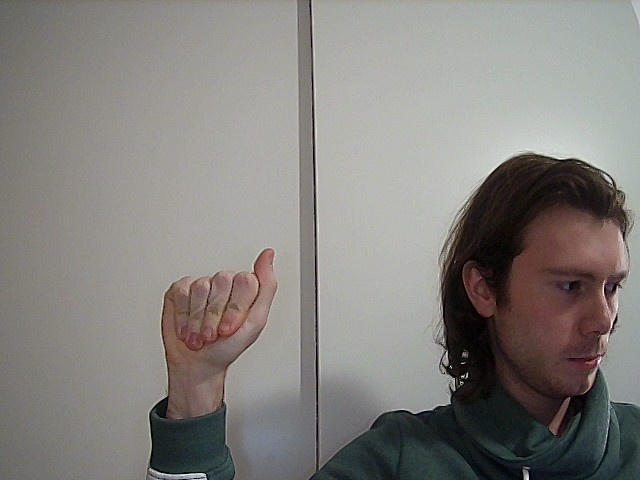a: (151, 244, 295, 374)
